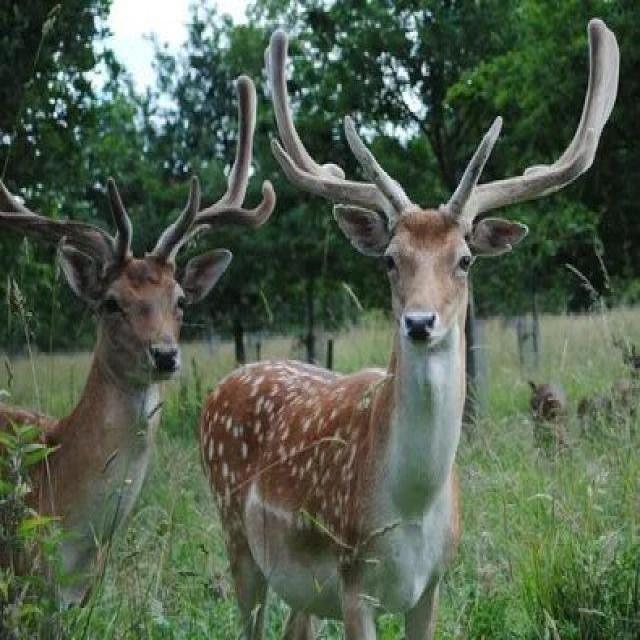deer: (139, 102, 590, 640)
